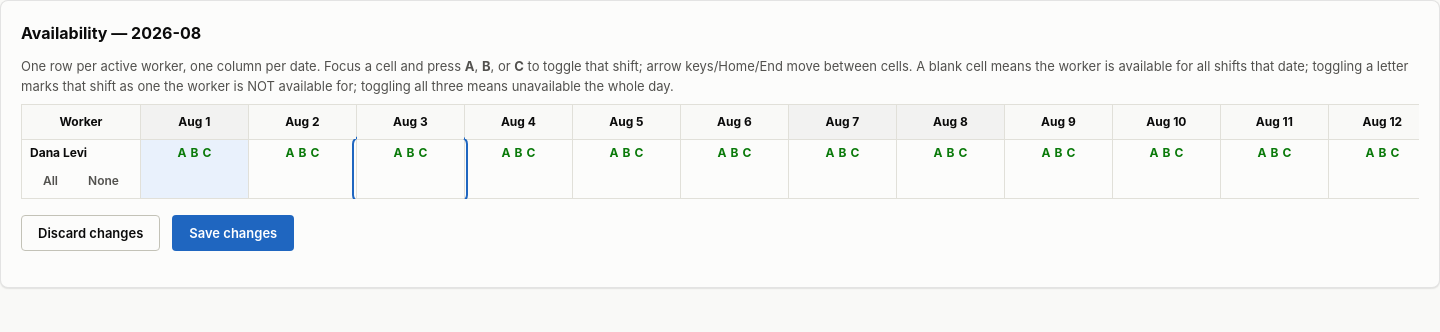
Test case: AvailabilityGrid › Save sends a PUT with only the toggled-on cell present — an untouched/cleared cell is never sent as an empty entry
Type keys "b"
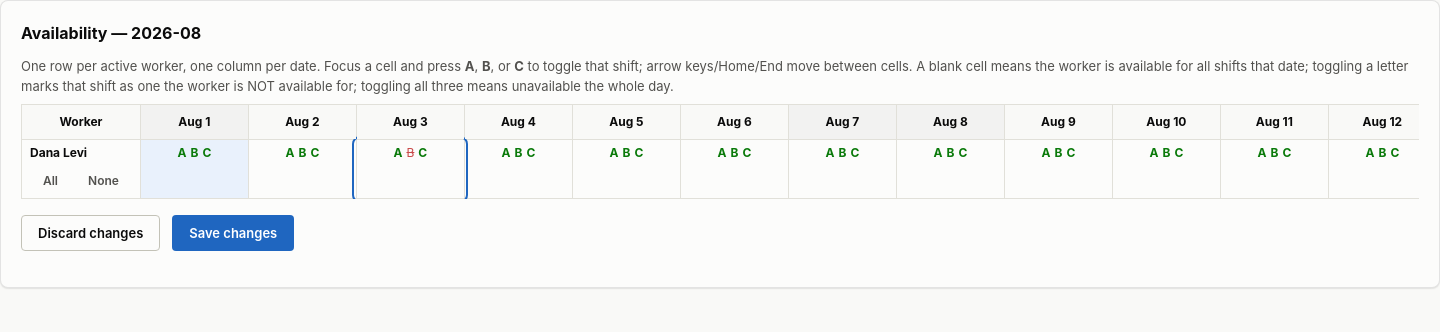
Click the button "Save changes" at (233, 233), box [172,215,294,251]
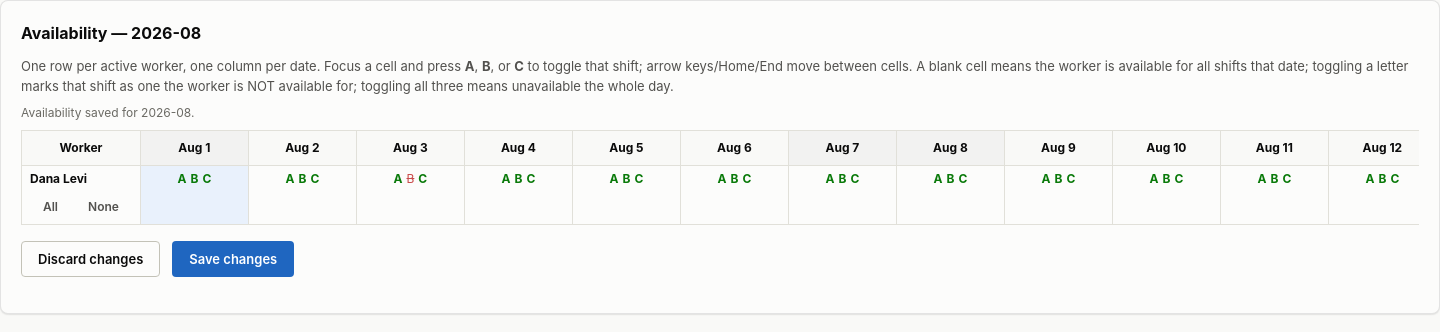
Expected: the text "Availability saved for 2026-08." is shown, [21,105,194,120]
